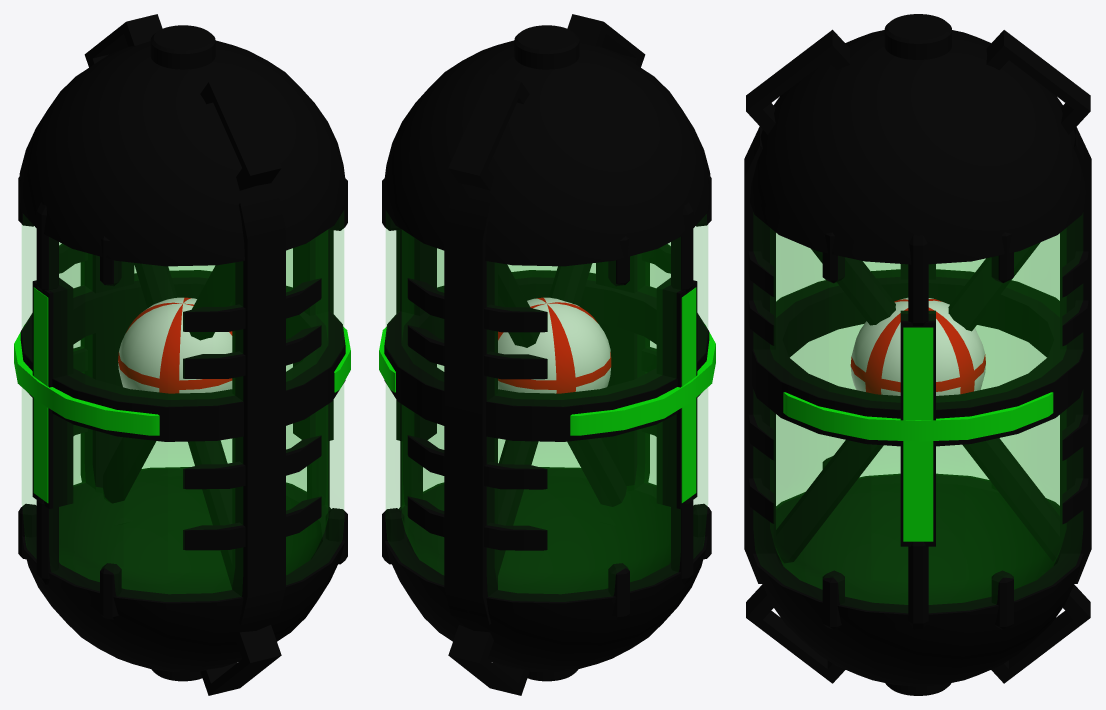
File: Green.fbx
3 views of the same model, side by side, from view 1: azimuth 30°, elevation 25°; view 2: azimuth 150°, elevation 25°; view 3: azimuth 270°, elevation 25° (orthographic). The views are drawn at different scales.
Parts seen in each view (by area): view 1: pasted__group12; view 2: pasted__group12; view 3: pasted__group12.
Part boxes in pixels (<box>): pasted__group12: <box>14,14,350,695</box>; pasted__group12: <box>379,14,715,695</box>; pasted__group12: <box>744,14,1091,695</box>.
Bounding box in the file's own units: 2.05 × 4.28 × 2.06.
